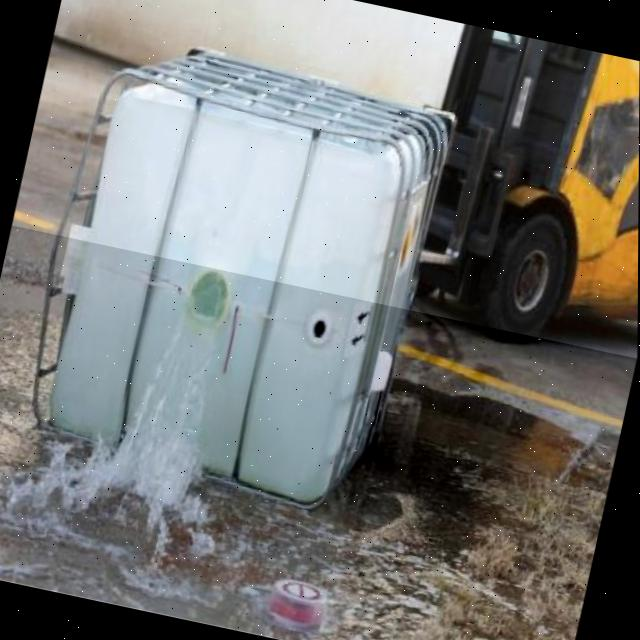spillage: (0, 227, 622, 640)
